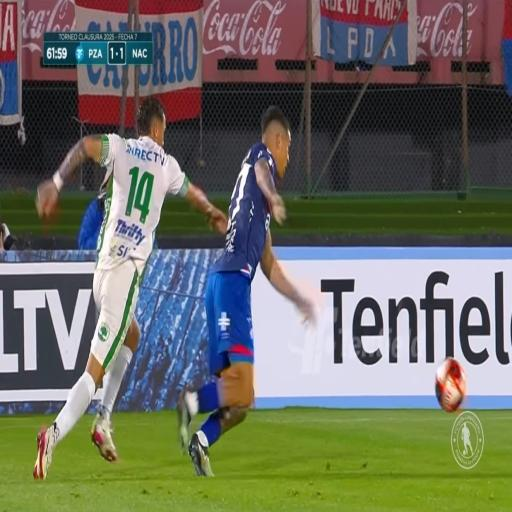Ball: (436, 356, 467, 414)
Player: (58, 104, 172, 482), (183, 114, 293, 476)
